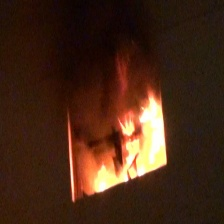fire: (90, 91, 177, 192)
smoke: (61, 1, 165, 89)
